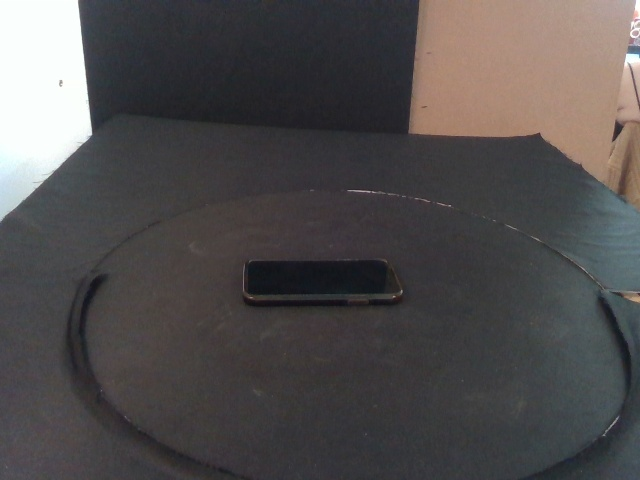phone: (241, 257, 404, 308)
